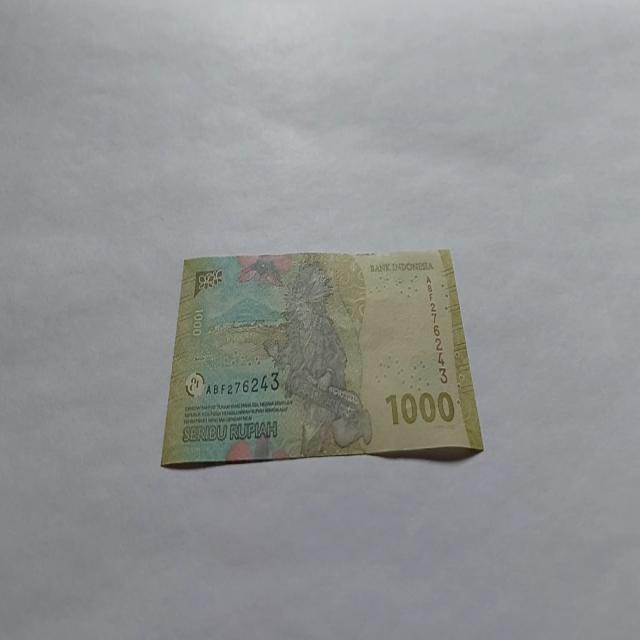seribu rupiah kertas: (160, 246, 483, 468)
